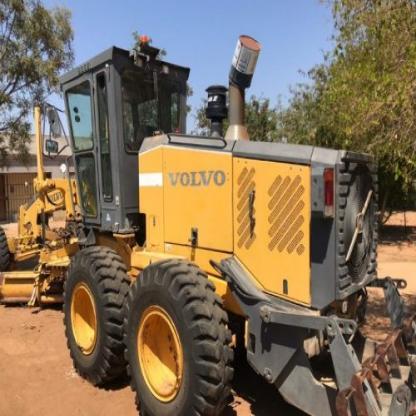bull_dozer/loader/grader: (1, 34, 407, 410)
